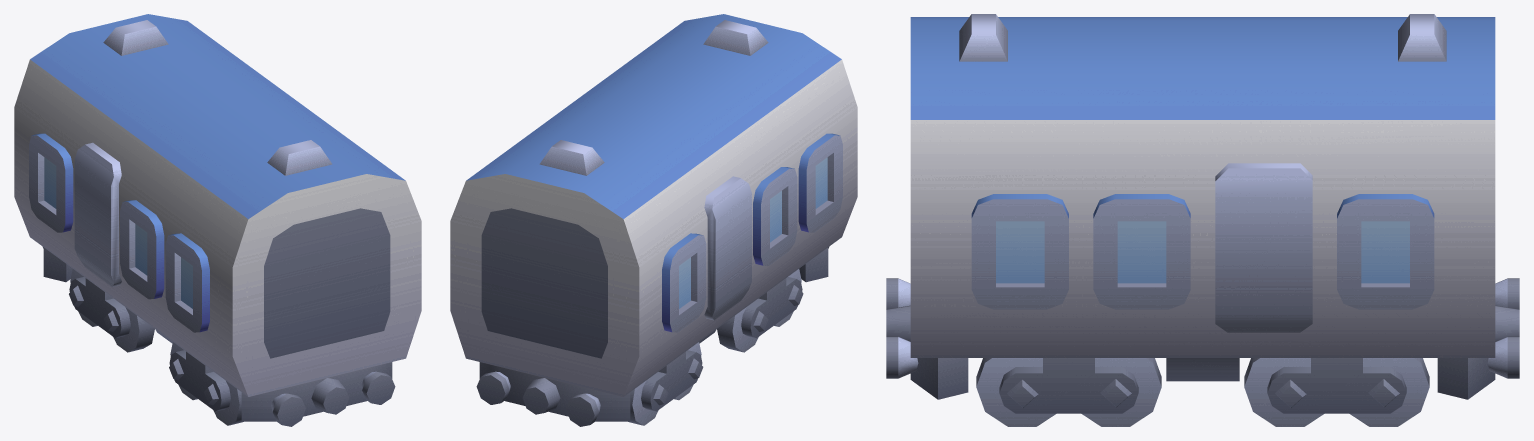
The model's file is train-electric-bullet-b.glb.
3 views of the same model, side by side, from view 1: azimuth 30°, elevation 25°; view 2: azimuth 150°, elevation 25°; view 3: azimuth 270°, elevation 25° (orthographic). The views are drawn at different scales.
Parts seen in each view (by area): view 1: train-electric-bullet-b, wheels-back, wheels-front; view 2: train-electric-bullet-b, wheels-front, wheels-back; view 3: train-electric-bullet-b, wheels-back, wheels-front.
Part boxes in pixels (x1,y1,x2,y2): train-electric-bullet-b: (14,14,421,426); wheels-back: (69,269,154,352); wheels-front: (169,342,243,425); train-electric-bullet-b: (450,14,857,426); wheels-front: (717,269,803,352); wheels-back: (628,342,703,425); train-electric-bullet-b: (886,14,1519,399); wheels-back: (1244,358,1429,426); wheels-front: (976,358,1161,426).
Size of the model in its own units: 1.3 by 1.64 by 2.6.
1 material, 1 textured.
